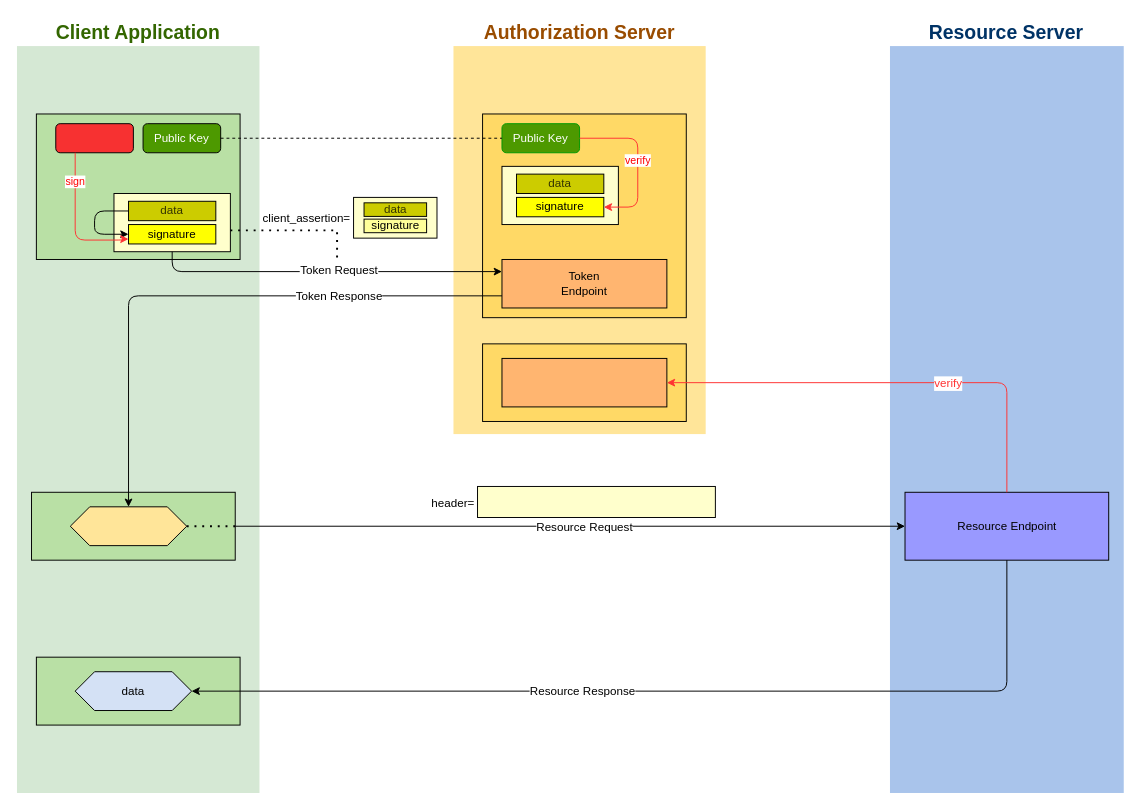
This 1140x809 diagram has some shape labels left out. Here are the shapes that lost their labels. From the top down, the box of each, then its label:
(55, 123, 133, 153): Private Key
(501, 357, 667, 407): Introspection Endpoint
(477, 485, 715, 517): Authorization: $token_type $access_token
(69, 506, 187, 546): token_type access_token
